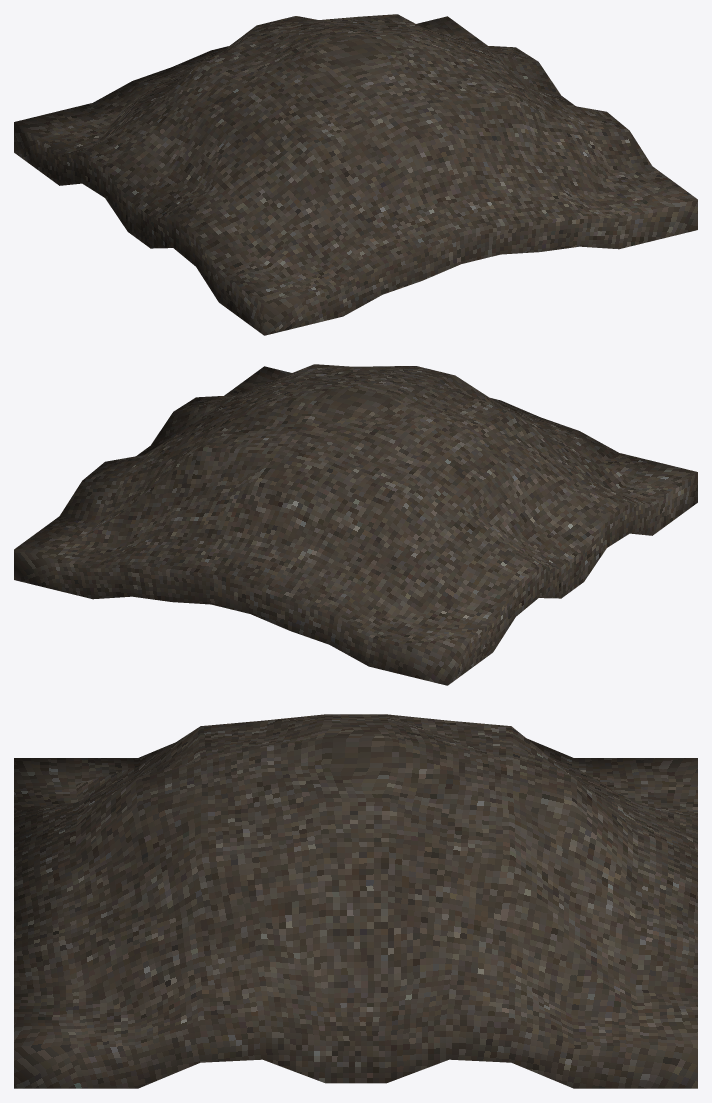
Rendered from Hole2.glb.
The picture shows the model from 3 angles, top to bottom: view 1: azimuth 30°, elevation 25°; view 2: azimuth 150°, elevation 25°; view 3: azimuth 270°, elevation 25°; orthographic projection. The views are drawn at different scales.
Visible parts, largest first — view 1: Plane; view 2: Plane; view 3: Plane.
Boxes of the visible parts, x1,y1,x2,y2 form: Plane: (14,14,697,335); Plane: (14,364,697,685); Plane: (14,714,697,1088).
Bounding box in the file's own units: 1 × 0.309 × 1.
1 material, 1 textured.
